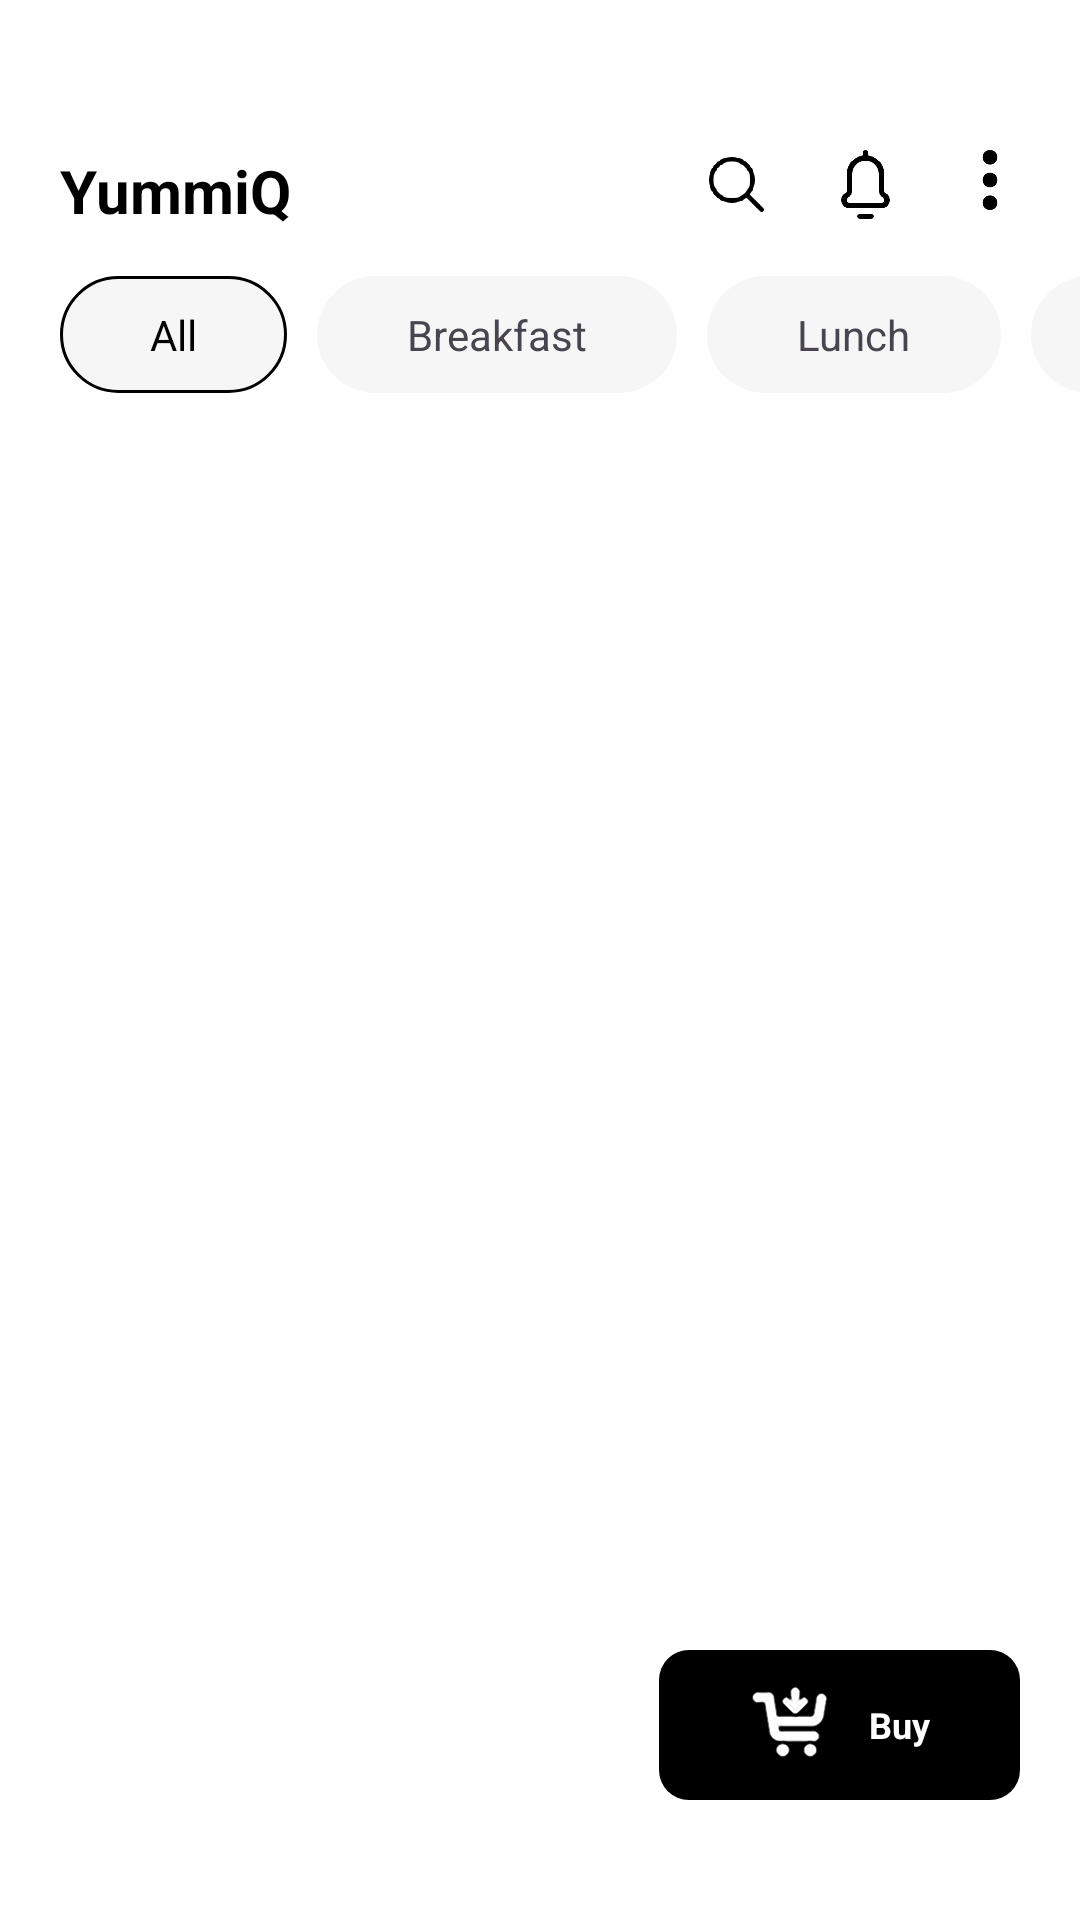

Icon bounding boxes for this 1080x1920 phone screenshot, format [x1=x1, y1=y1, x2=x2, y2=y2]:
menu: [x1=982, y1=150, x2=998, y2=210]
notification: [x1=841, y1=150, x2=890, y2=219]
search: [x1=709, y1=157, x2=764, y2=212]
